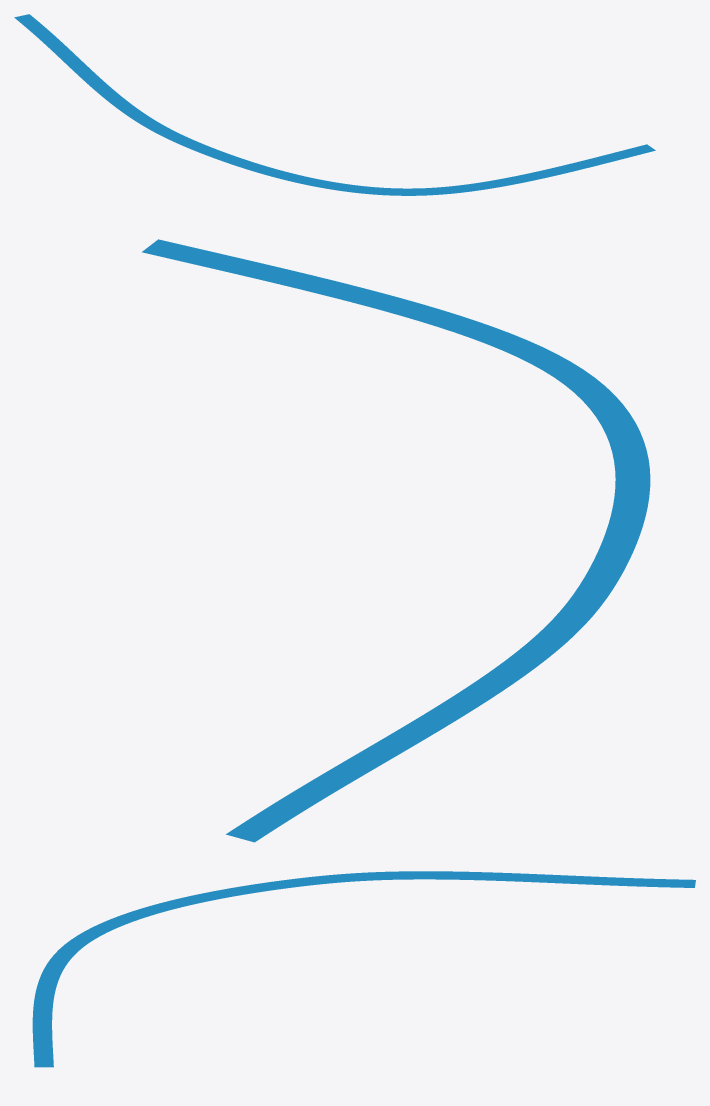
Rendered from guide.glb.
3 views of the same model, one above another, from view 1: azimuth 30°, elevation 25°; view 2: azimuth 150°, elevation 25°; view 3: azimuth 270°, elevation 25° (orthographic). The views are drawn at different scales.
Parts seen in each view (by area): view 1: static; view 2: static; view 3: static.
Part boxes in pixels (box(x1,y1,x2,y2)): static: box(14, 14, 655, 195); static: box(142, 239, 650, 842); static: box(32, 871, 695, 1067).
Bounding box in the file's own units: 8.61 × 0 × 11.25.
